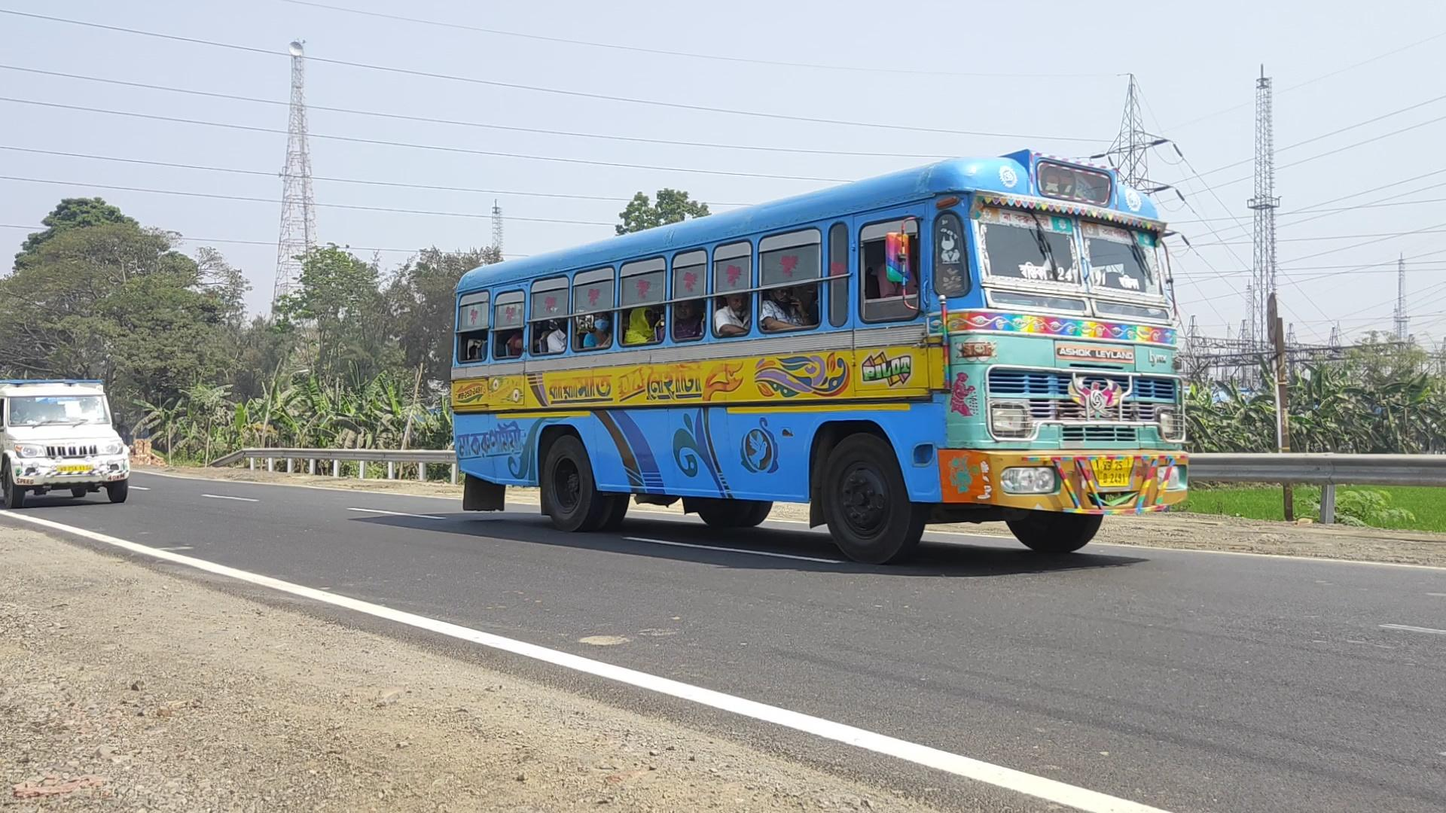Bus: (450, 149, 1189, 565)
van: (1, 374, 130, 510)
